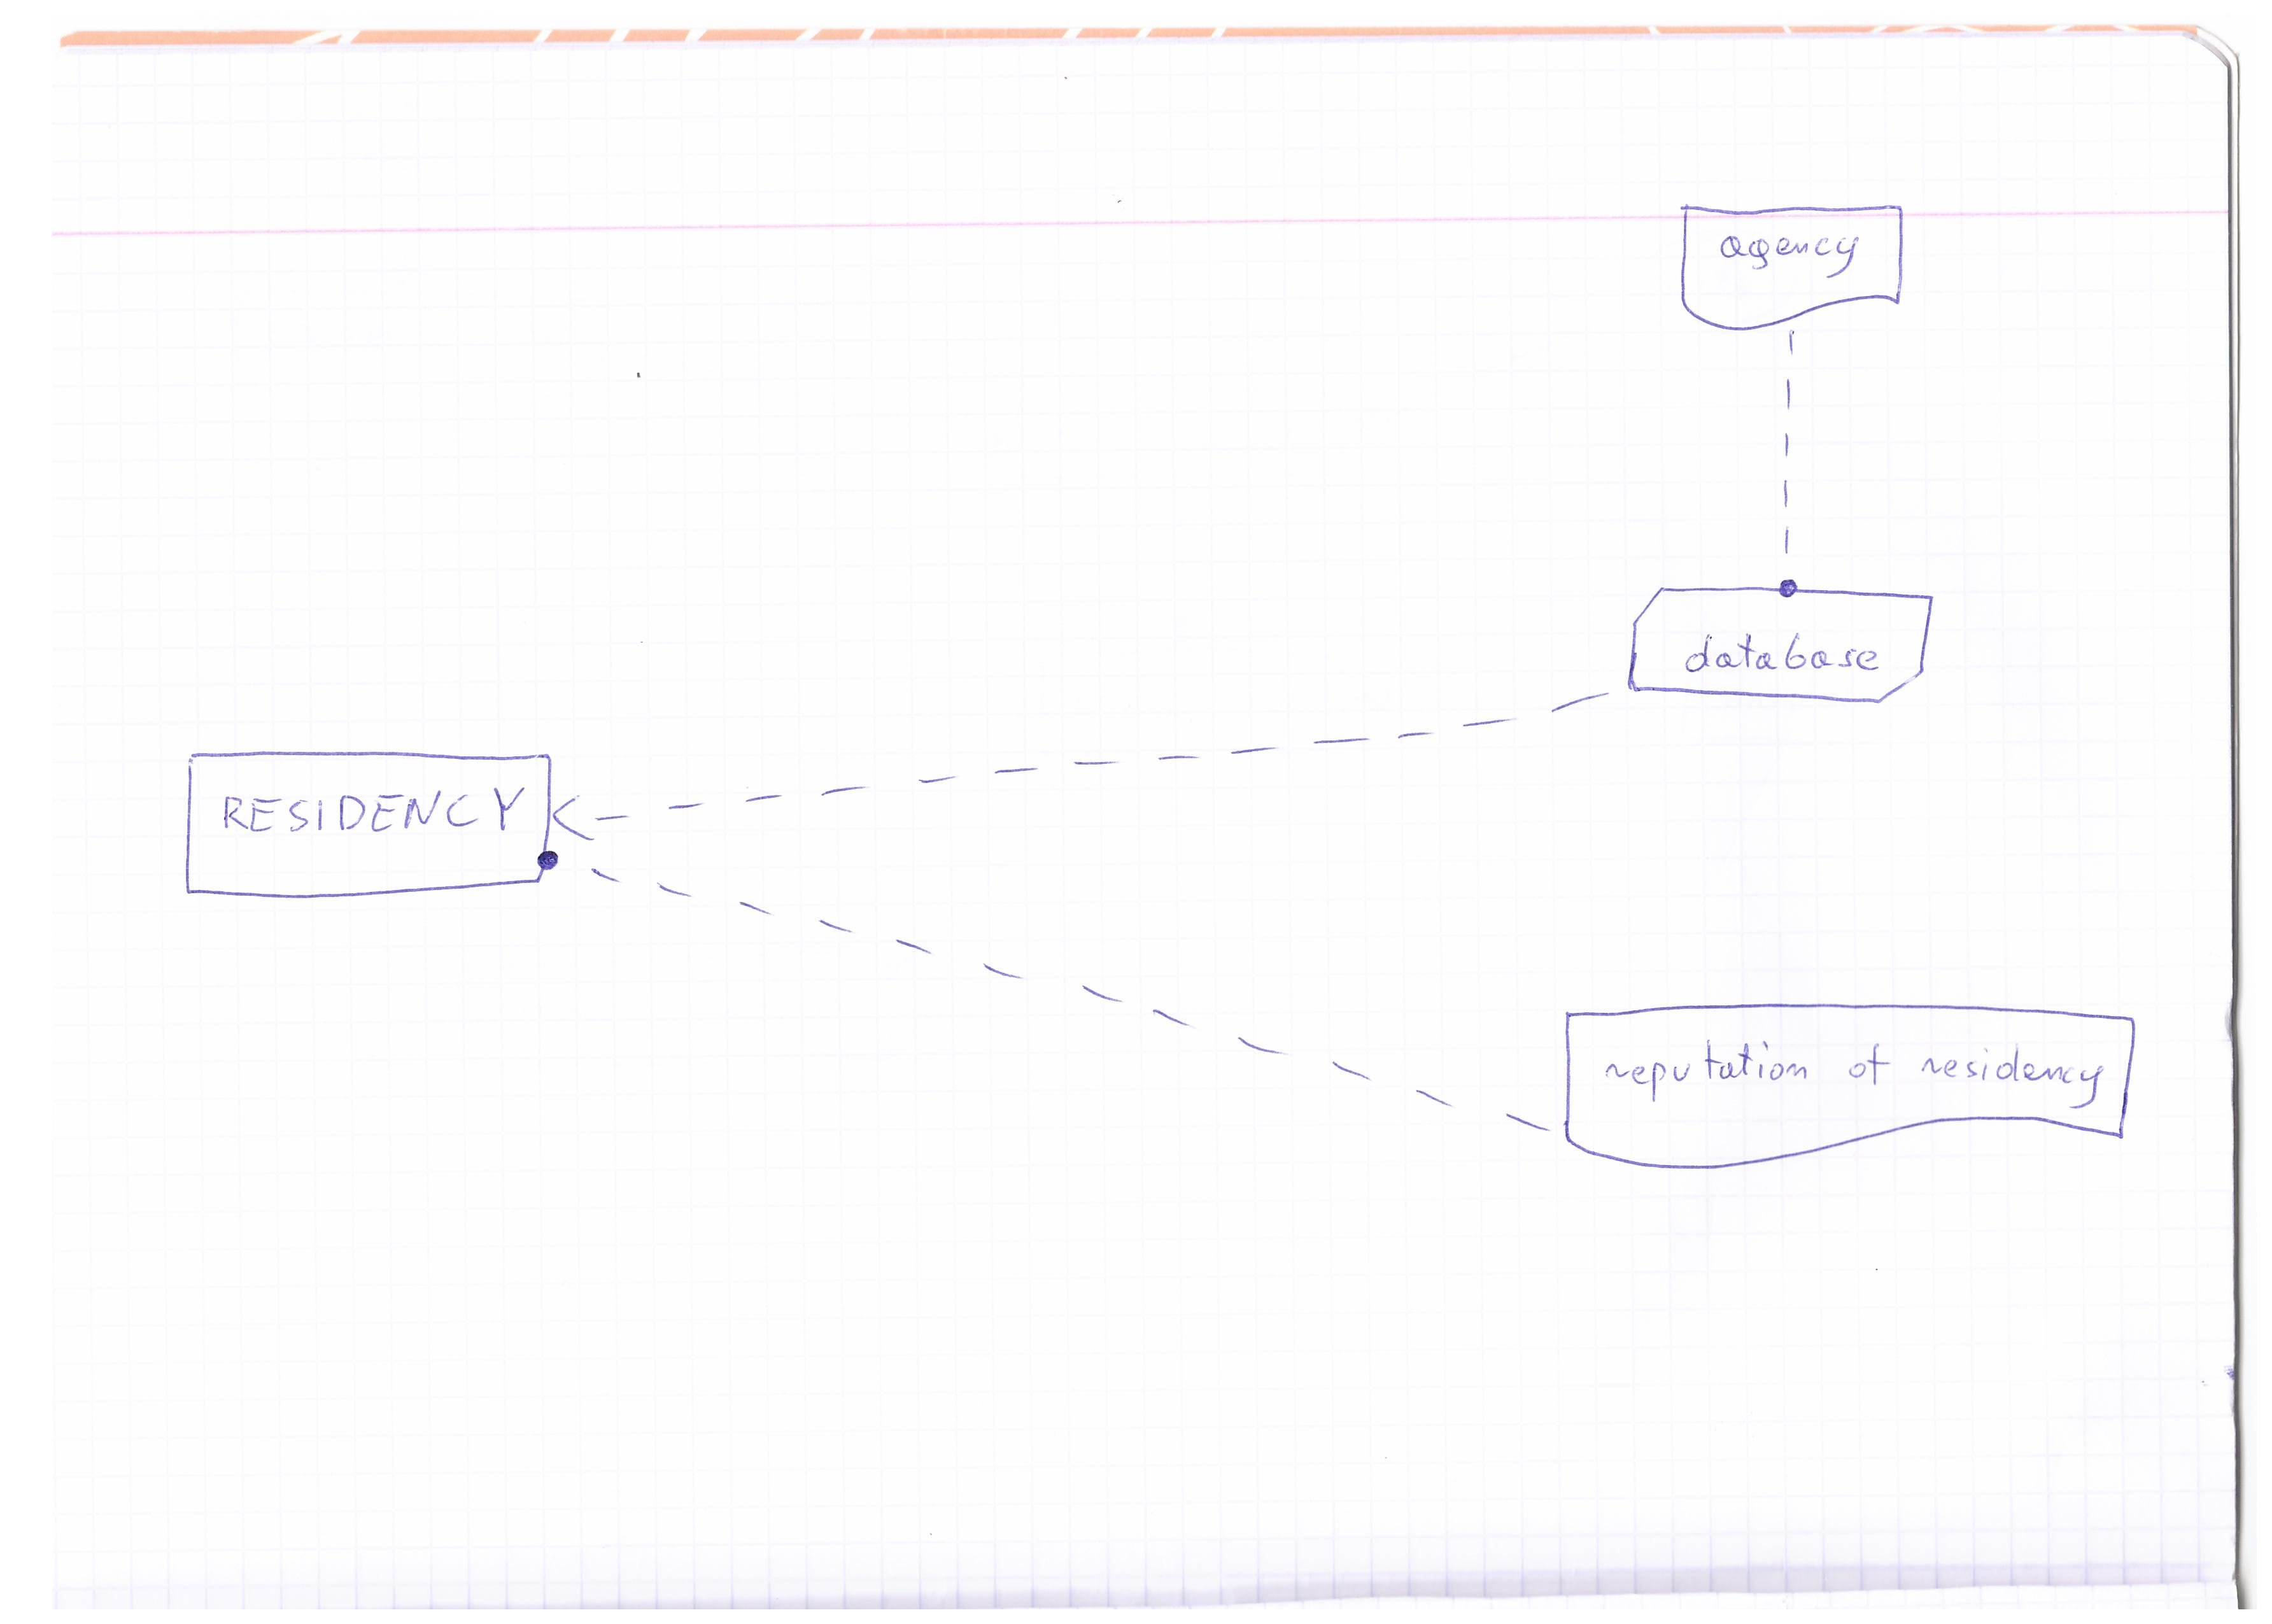arrow_authority_requirement: (525, 840, 1555, 1165), (1771, 318, 1808, 601)
arrow_knowledge_requirement: (548, 661, 1622, 842)
node_decision: (162, 743, 555, 900)
node_knowledge_model: (1625, 573, 1947, 712)
node_knowledge_source: (1552, 995, 2156, 1171), (1673, 193, 1929, 336)
text: (1590, 1033, 2109, 1113), (214, 777, 532, 847), (1673, 622, 1898, 678), (1706, 223, 1871, 285)
